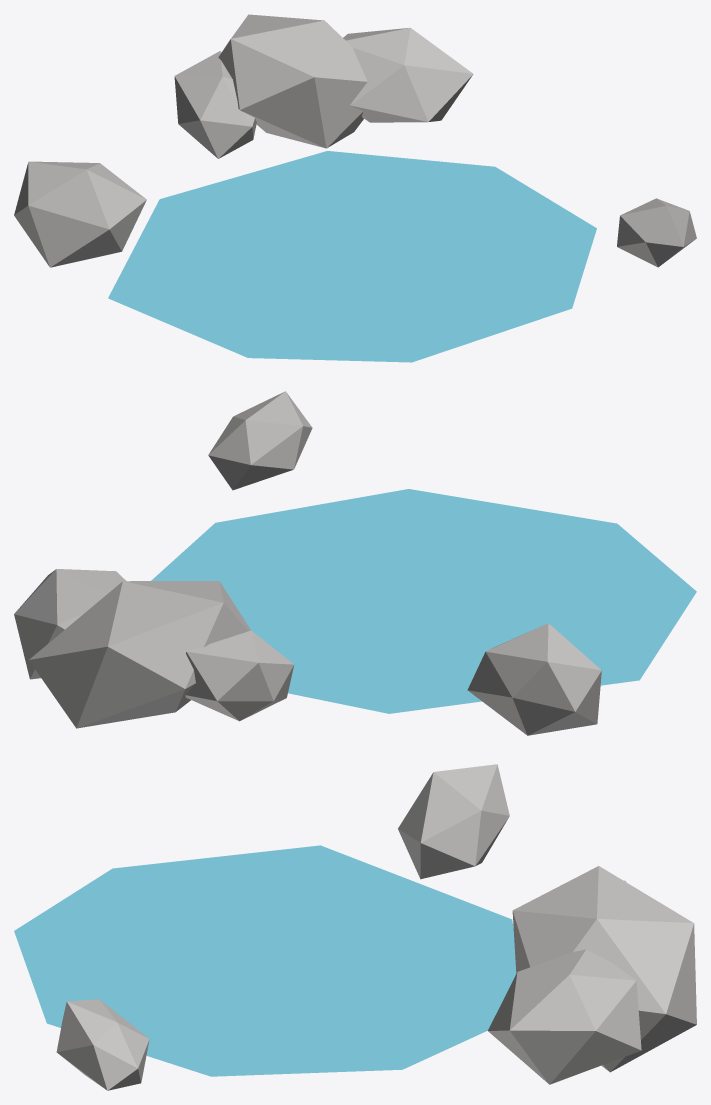
The model's file is estanque_rocas_borde.glb.
3 views of the same model, one above another, from view 1: azimuth 30°, elevation 25°; view 2: azimuth 150°, elevation 25°; view 3: azimuth 270°, elevation 25° (orthographic). The views are drawn at different scales.
Parts seen in each view (by area): view 1: Water_Surface, Lake_Rock_1, Lake_Rock_4, Lake_Rock_2, Lake_Rock_3, Lake_Rock_5; view 2: Water_Surface, Lake_Rock_1, Lake_Rock_4, Lake_Rock_3, Lake_Rock_5, Lake_Rock_2; view 3: Water_Surface, Lake_Rock_1, Lake_Rock_2, Lake_Rock_4, Lake_Rock_5.
Boxes of the visible parts, <box> form: Water_Surface: <box>108,151,596,362</box>; Lake_Rock_1: <box>218,14,367,148</box>; Lake_Rock_4: <box>14,161,146,267</box>; Lake_Rock_2: <box>343,27,473,122</box>; Lake_Rock_3: <box>174,51,256,158</box>; Lake_Rock_5: <box>617,198,696,267</box>; Water_Surface: <box>151,489,696,713</box>; Lake_Rock_1: <box>29,581,250,728</box>; Lake_Rock_4: <box>467,623,601,735</box>; Lake_Rock_3: <box>185,630,293,721</box>; Lake_Rock_5: <box>208,391,312,490</box>; Lake_Rock_2: <box>14,569,126,679</box>; Water_Surface: <box>14,845,516,1076</box>; Lake_Rock_1: <box>512,866,696,1072</box>; Lake_Rock_2: <box>488,949,641,1084</box>; Lake_Rock_4: <box>398,764,509,879</box>; Lake_Rock_5: <box>56,999,149,1090</box>.
Bounding box in the file's own units: 11.7 × 2.8 × 12.48.
